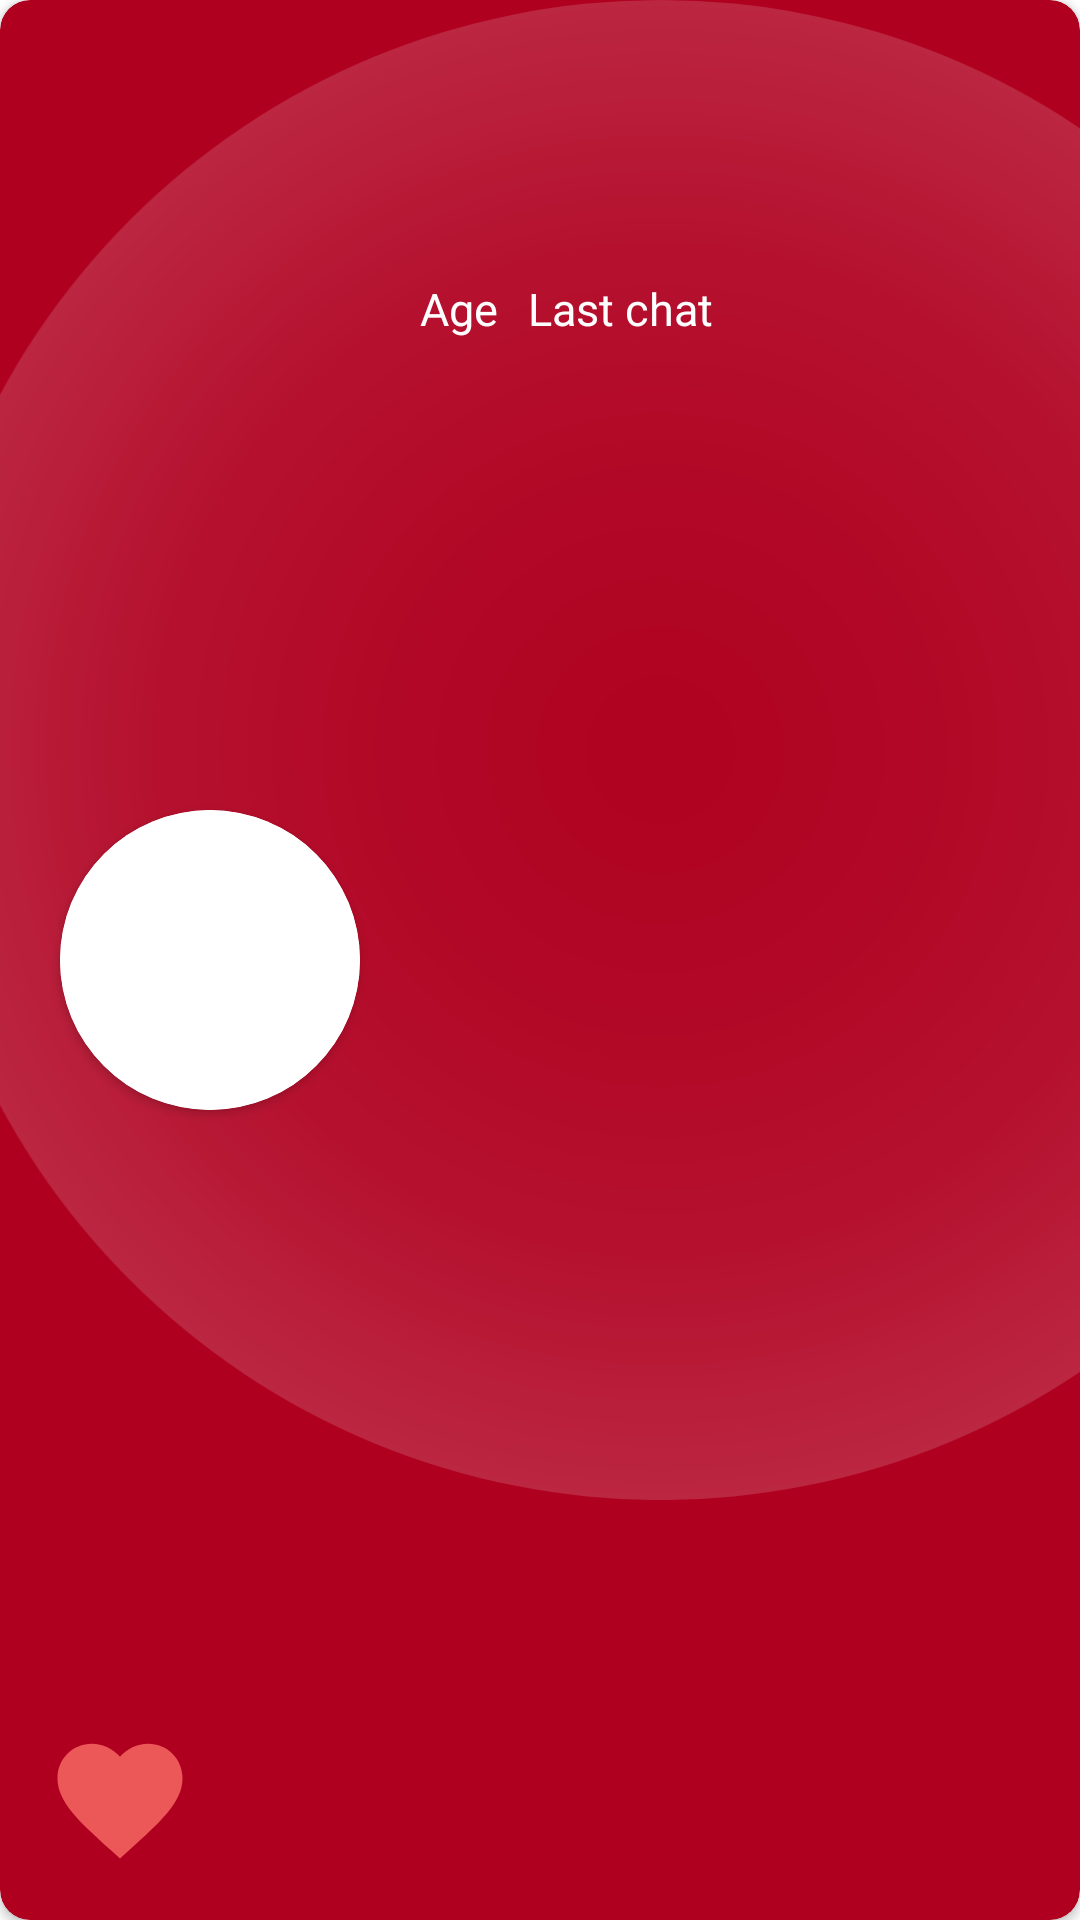

Icons on this 1080 x 1920 Android screen, each with its box as box(x1, y1, x2, y2):
favorite: box(57, 1744, 183, 1858)
